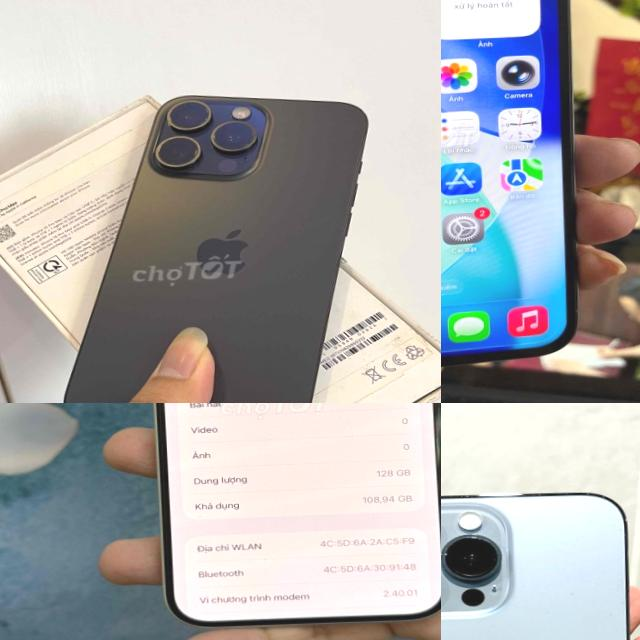gen_12_13: (441, 0, 589, 379), (441, 486, 640, 640)
gen_15: (35, 78, 381, 403)
gen_16: (132, 403, 441, 633)
